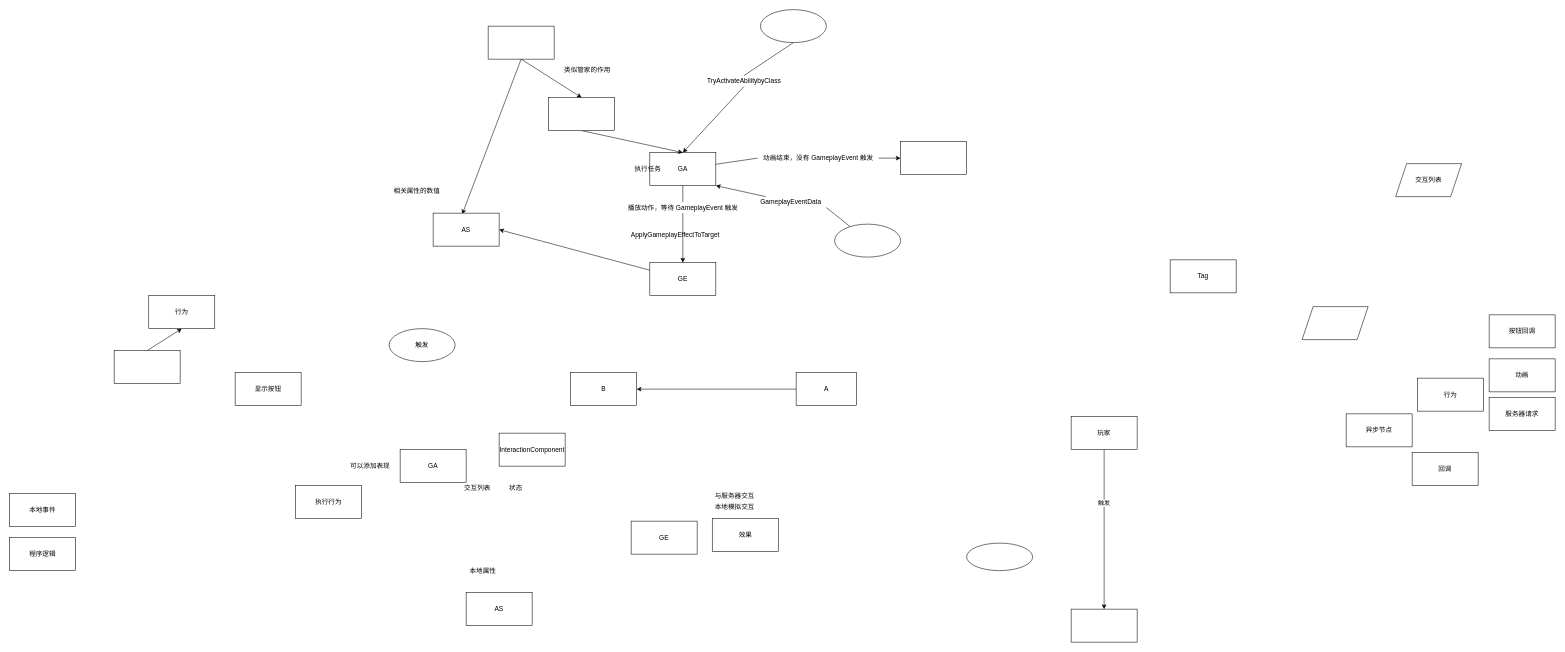
The diagram is 1565 pixels wide and 652 high, and some of its shapes have lost their labels. The shapes that lost their labels are listed below. From the top down, each one's box as (x1, y1, x2, y2) in pixels, then its label:
(488, 26, 554, 59): Actor
(760, 9, 826, 43): 触发能力
(548, 97, 615, 131): ASC
(900, 141, 967, 175): 结束
(834, 224, 901, 257): 外部事件
(114, 350, 180, 384): 动作
(966, 543, 1033, 571): tick
(1071, 609, 1137, 642): 元素
